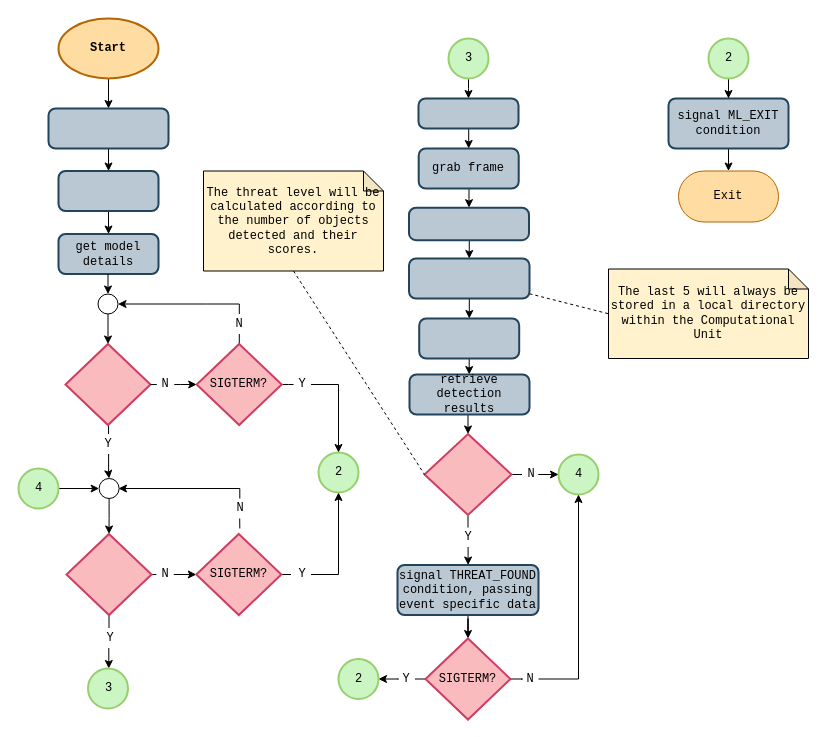
This 826x737 diagram has some shape labels left out. Each missing label, with the box of its shape:
CAM_INIT condition signaled?: (64, 342, 151, 426)
copy frame to the common inode: (408, 257, 530, 299)
invoke interpreter: (418, 317, 520, 359)
load files: (57, 170, 159, 212)
lock CAM mutex: (417, 97, 519, 129)
qualifies?: (423, 432, 512, 516)
sample period elapsed?: (65, 532, 152, 616)
specify model and label map paths: (47, 107, 169, 149)
unlock CAM mutex: (408, 206, 530, 241)
